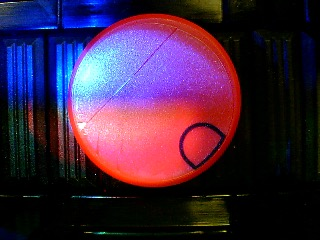MIPO1: (67, 13, 242, 188)
